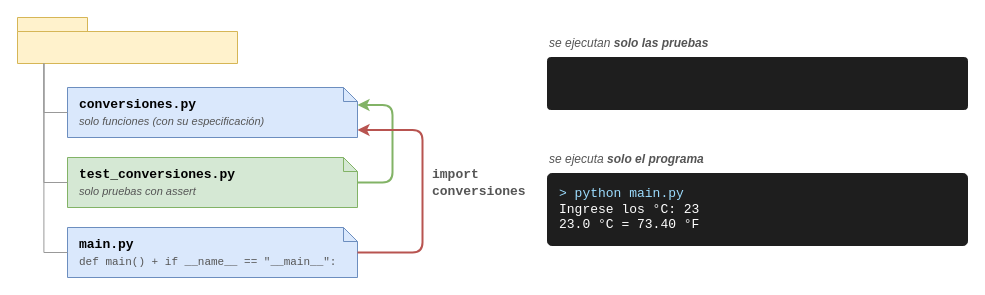
The diagram is 985 pixels wide and 295 high, and some of its shapes have lost their labels. Here are the shapes that lost their labels. From the top down, the centre of each, then its label:
[127,40]: repaso_funciones/
[757,83]: > python test_conversiones.py Pruebas de conversiones: todas pasaron
